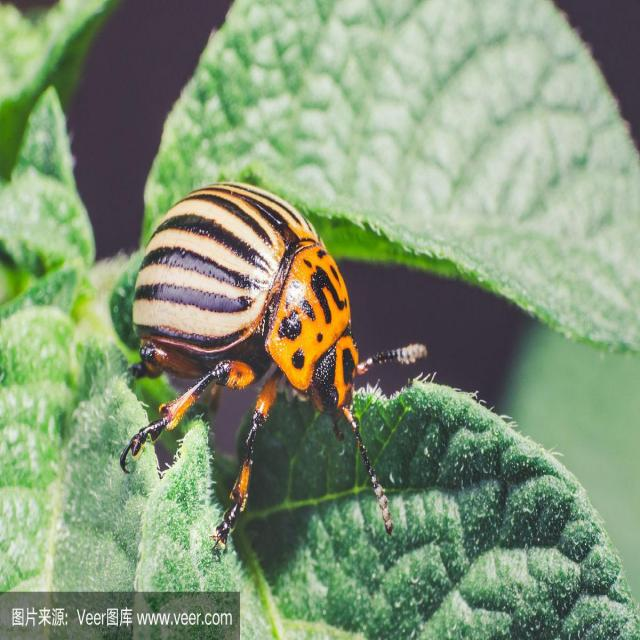ShuCaiHuaBanChong-Grown-: (102, 155, 400, 484)
